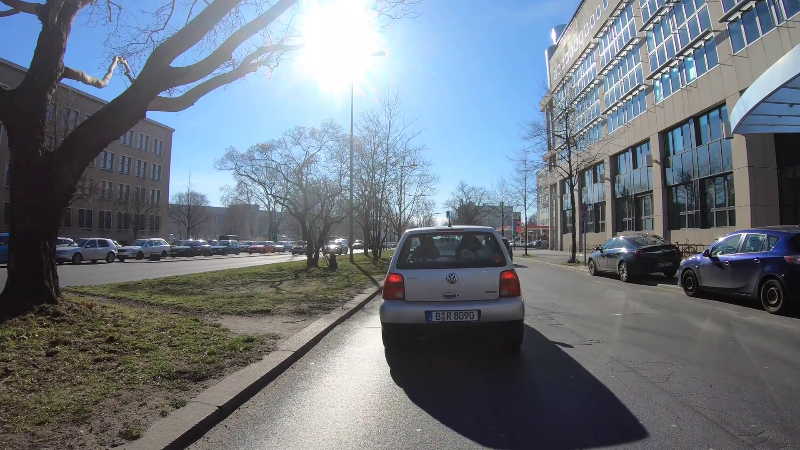Plate: (425, 308, 481, 325), (655, 260, 674, 268)
